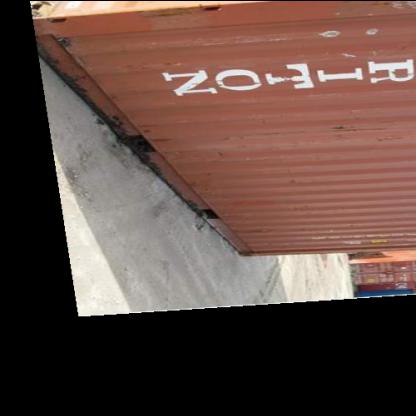Damage: (127, 112, 181, 162), (324, 118, 396, 140), (228, 121, 306, 140), (232, 222, 278, 240), (54, 26, 83, 52), (280, 172, 310, 190)
